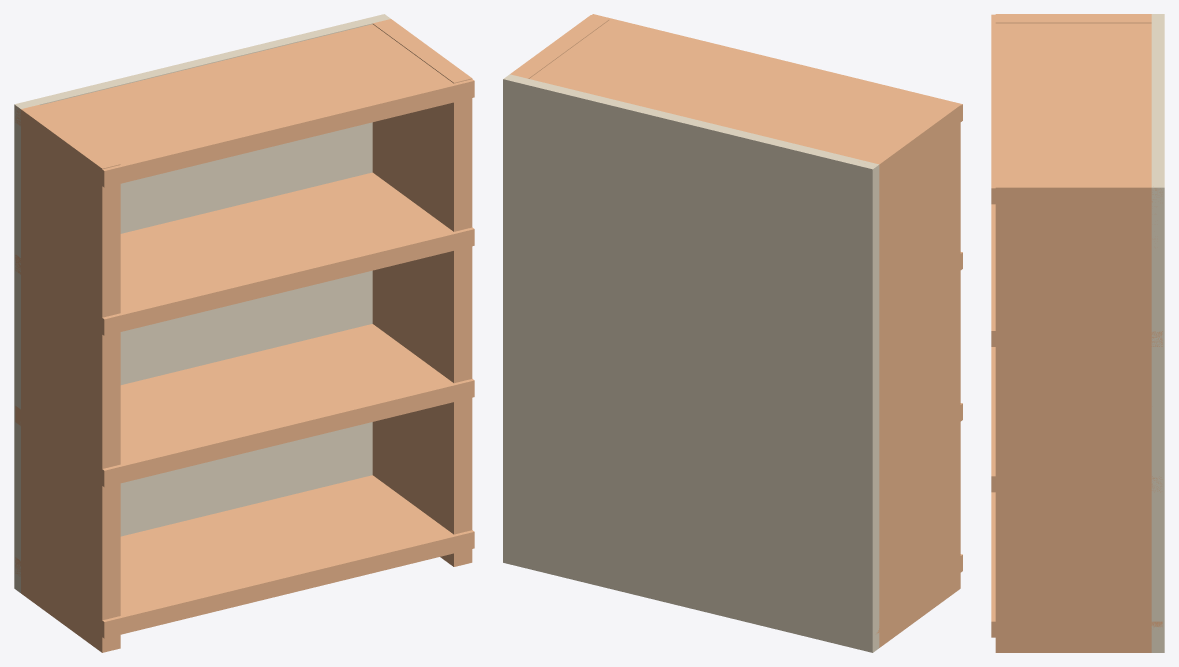
3 renders of one model, left to right at view 1: azimuth 30°, elevation 25°; view 2: azimuth 150°, elevation 25°; view 3: azimuth 270°, elevation 25°, orthographic. The views are drawn at different scales.
Visible parts, largest first — view 1: Back, Side, Shelf.003, Side.001, Shelf.001, Shelf.002, Shelf; view 2: Back, Side, Shelf.003, Side.001, Shelf.001, Shelf.002, Shelf; view 3: Side.001, Shelf.003, Back, Shelf, Shelf.001, Shelf.002, Side.
Part boxes in pixels (x1,y1,x2,y2): Back: (14, 14, 390, 592); Side: (21, 104, 120, 652); Shelf.003: (15, 24, 474, 187); Side.001: (372, 19, 472, 566); Shelf.001: (15, 324, 474, 487); Shelf.002: (15, 172, 474, 335); Shelf: (15, 475, 474, 638); Back: (503, 74, 879, 652); Side: (861, 100, 960, 647); Shelf.003: (529, 14, 962, 181); Side.001: (510, 15, 609, 78); Shelf.001: (879, 403, 962, 480); Shelf.002: (879, 252, 962, 329); Shelf: (876, 554, 962, 633); Side.001: (995, 179, 1153, 652); Shelf.003: (991, 14, 1162, 204); Back: (1151, 14, 1164, 652); Shelf: (991, 492, 1162, 637); Shelf.001: (991, 347, 1162, 492); Shelf.002: (991, 204, 1162, 346); Side: (995, 14, 1151, 23).
Bounding box in the file's own units: 96 × 120 × 40.5.
